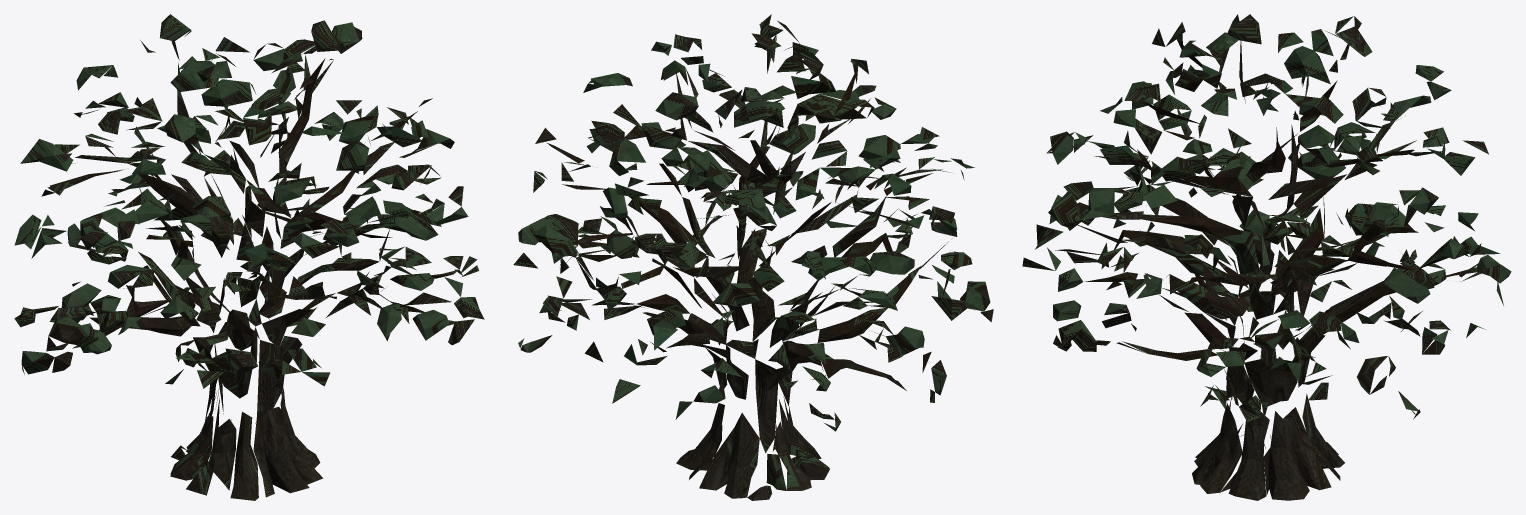
Rendered from nat_oak_a_LOD1.glb.
3 views of the same model, side by side, from view 1: azimuth 30°, elevation 25°; view 2: azimuth 150°, elevation 25°; view 3: azimuth 270°, elevation 25° (orthographic). The views are drawn at different scales.
Visible parts, largest first — view 1: geometry_0; view 2: geometry_0; view 3: geometry_0.
Part boxes in pixels (bbox=[...]): geometry_0: bbox=[14, 14, 484, 500]; geometry_0: bbox=[513, 14, 993, 500]; geometry_0: bbox=[1022, 14, 1511, 500].
Size of the model in its own units: 9.57 by 8.99 by 9.05.
Materials: 1 (1 with a texture image).
